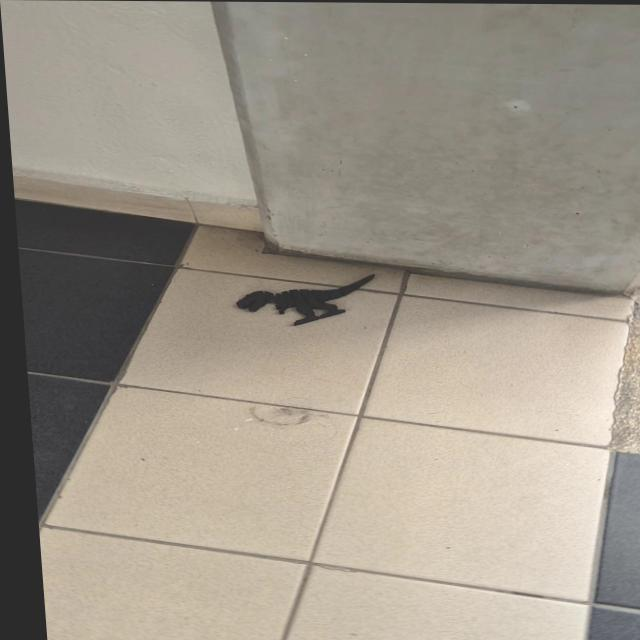dino: (233, 272, 380, 327)
